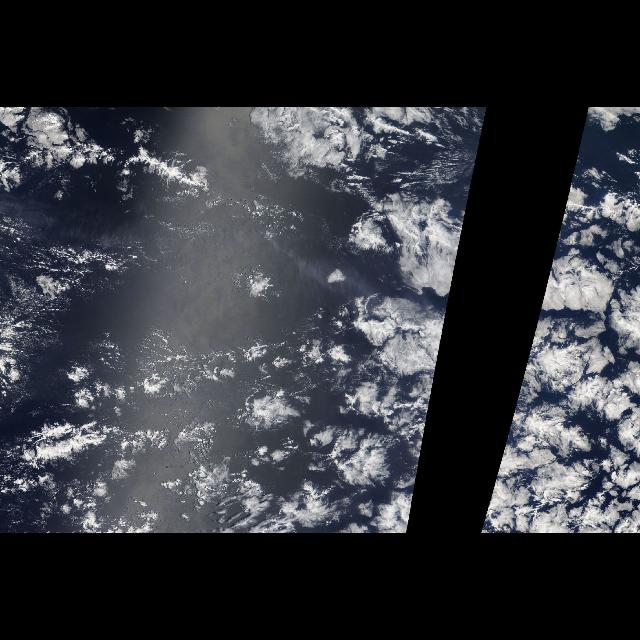Flower: (303, 186, 472, 534), (478, 186, 640, 534)
